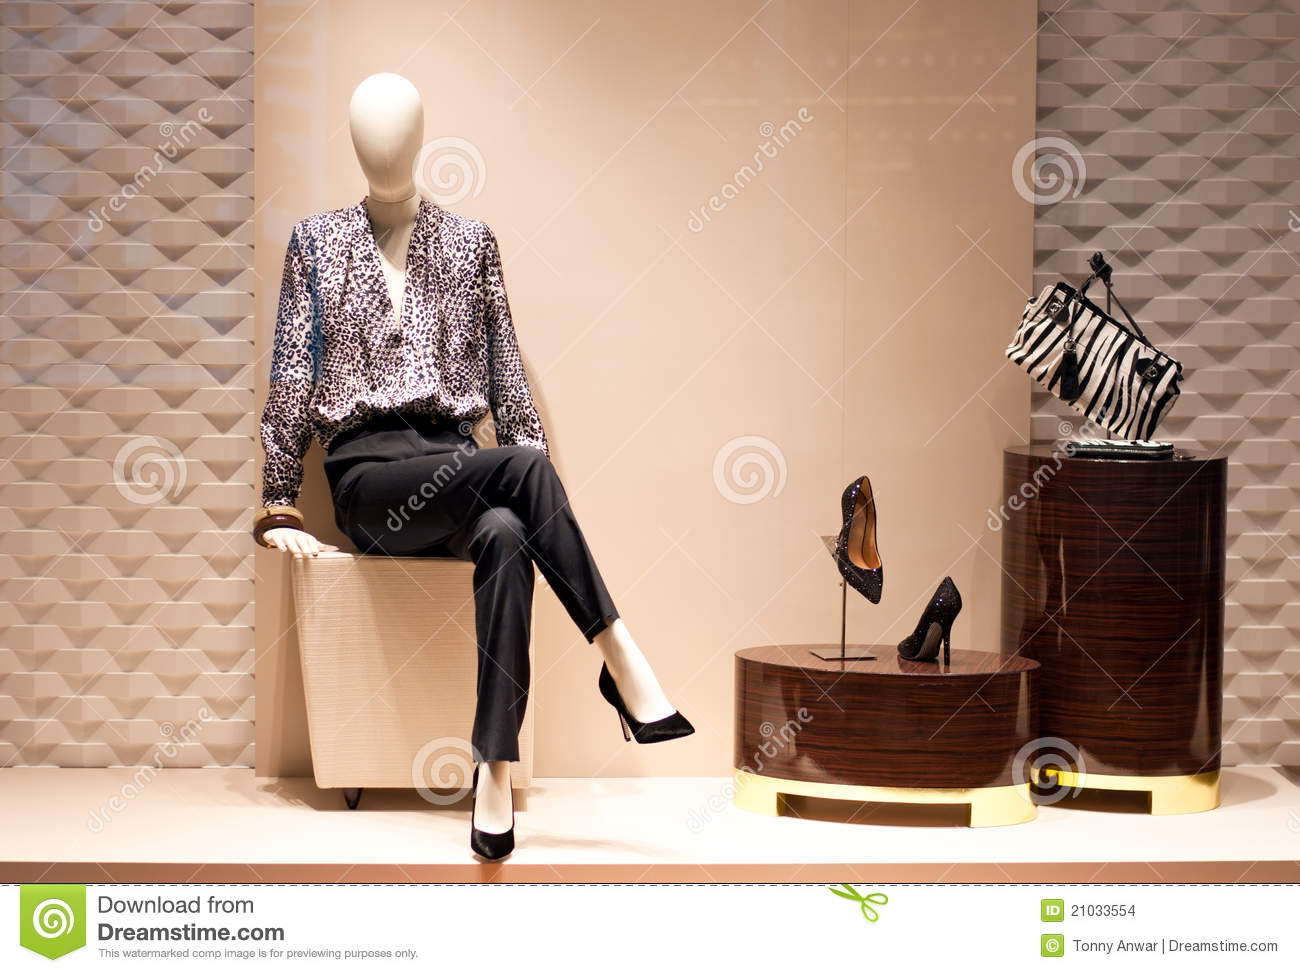person-like: (241, 61, 708, 865)
